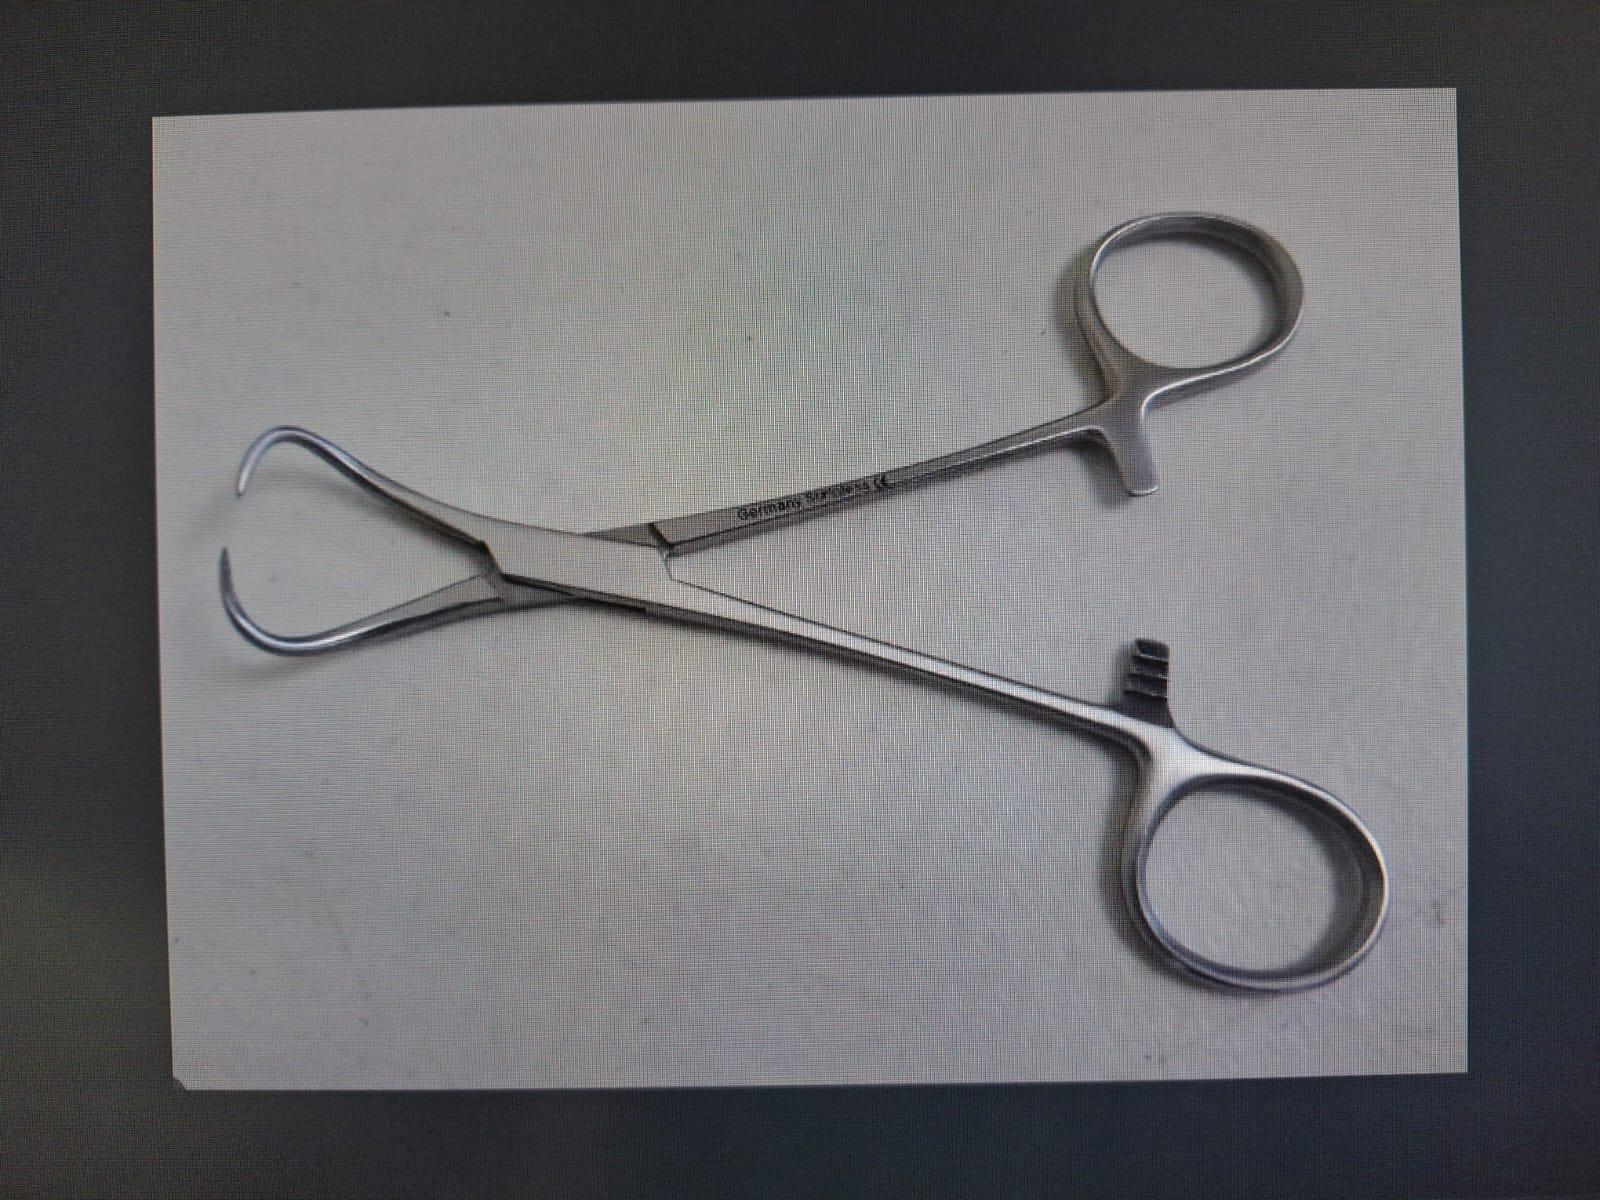Backhaus: (204, 208, 1406, 1004)
